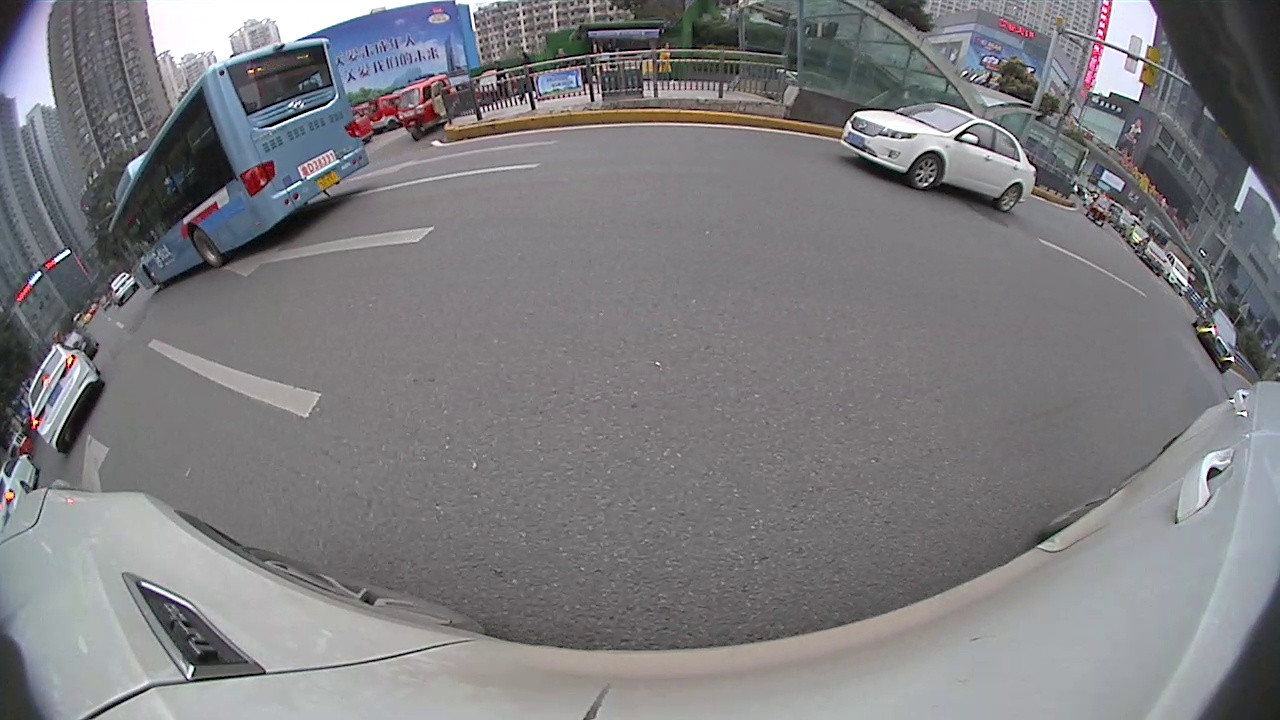bus: (107, 37, 371, 290)
car: (841, 102, 1038, 216), (26, 342, 105, 457), (1193, 305, 1240, 374), (0, 453, 40, 521), (1165, 252, 1191, 298), (1138, 240, 1169, 272), (63, 329, 95, 358), (110, 271, 137, 304)
front: (907, 154, 944, 193), (143, 267, 163, 290)
rear: (190, 223, 224, 270), (995, 179, 1025, 214)
rider: (398, 76, 458, 143)
